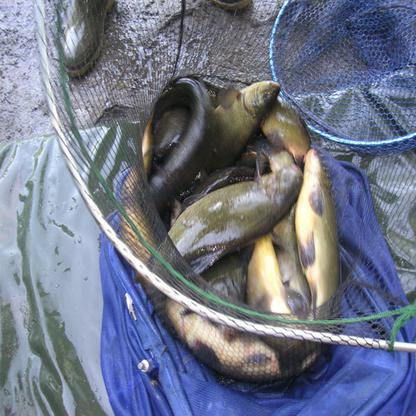fish: (291, 145, 343, 320)
